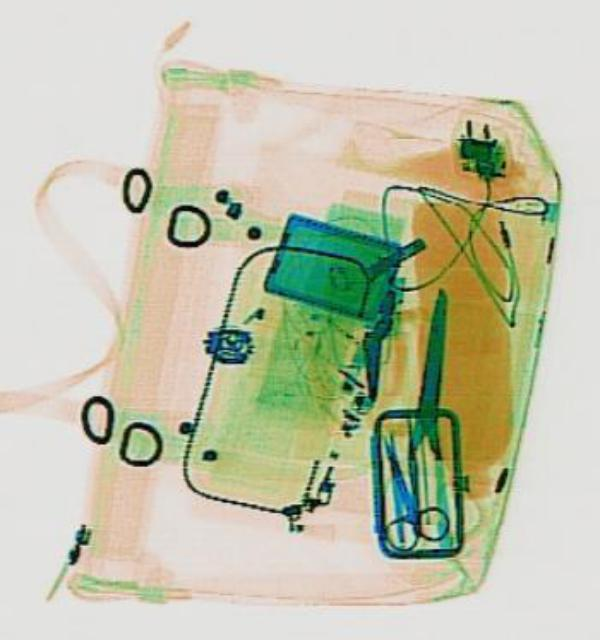Scissors: (352, 424, 449, 554)
